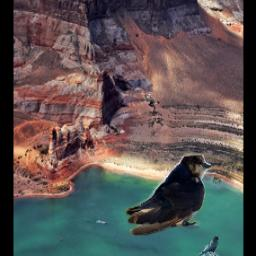Crow: (199, 236, 220, 256)
Swallow: (125, 154, 211, 236)
